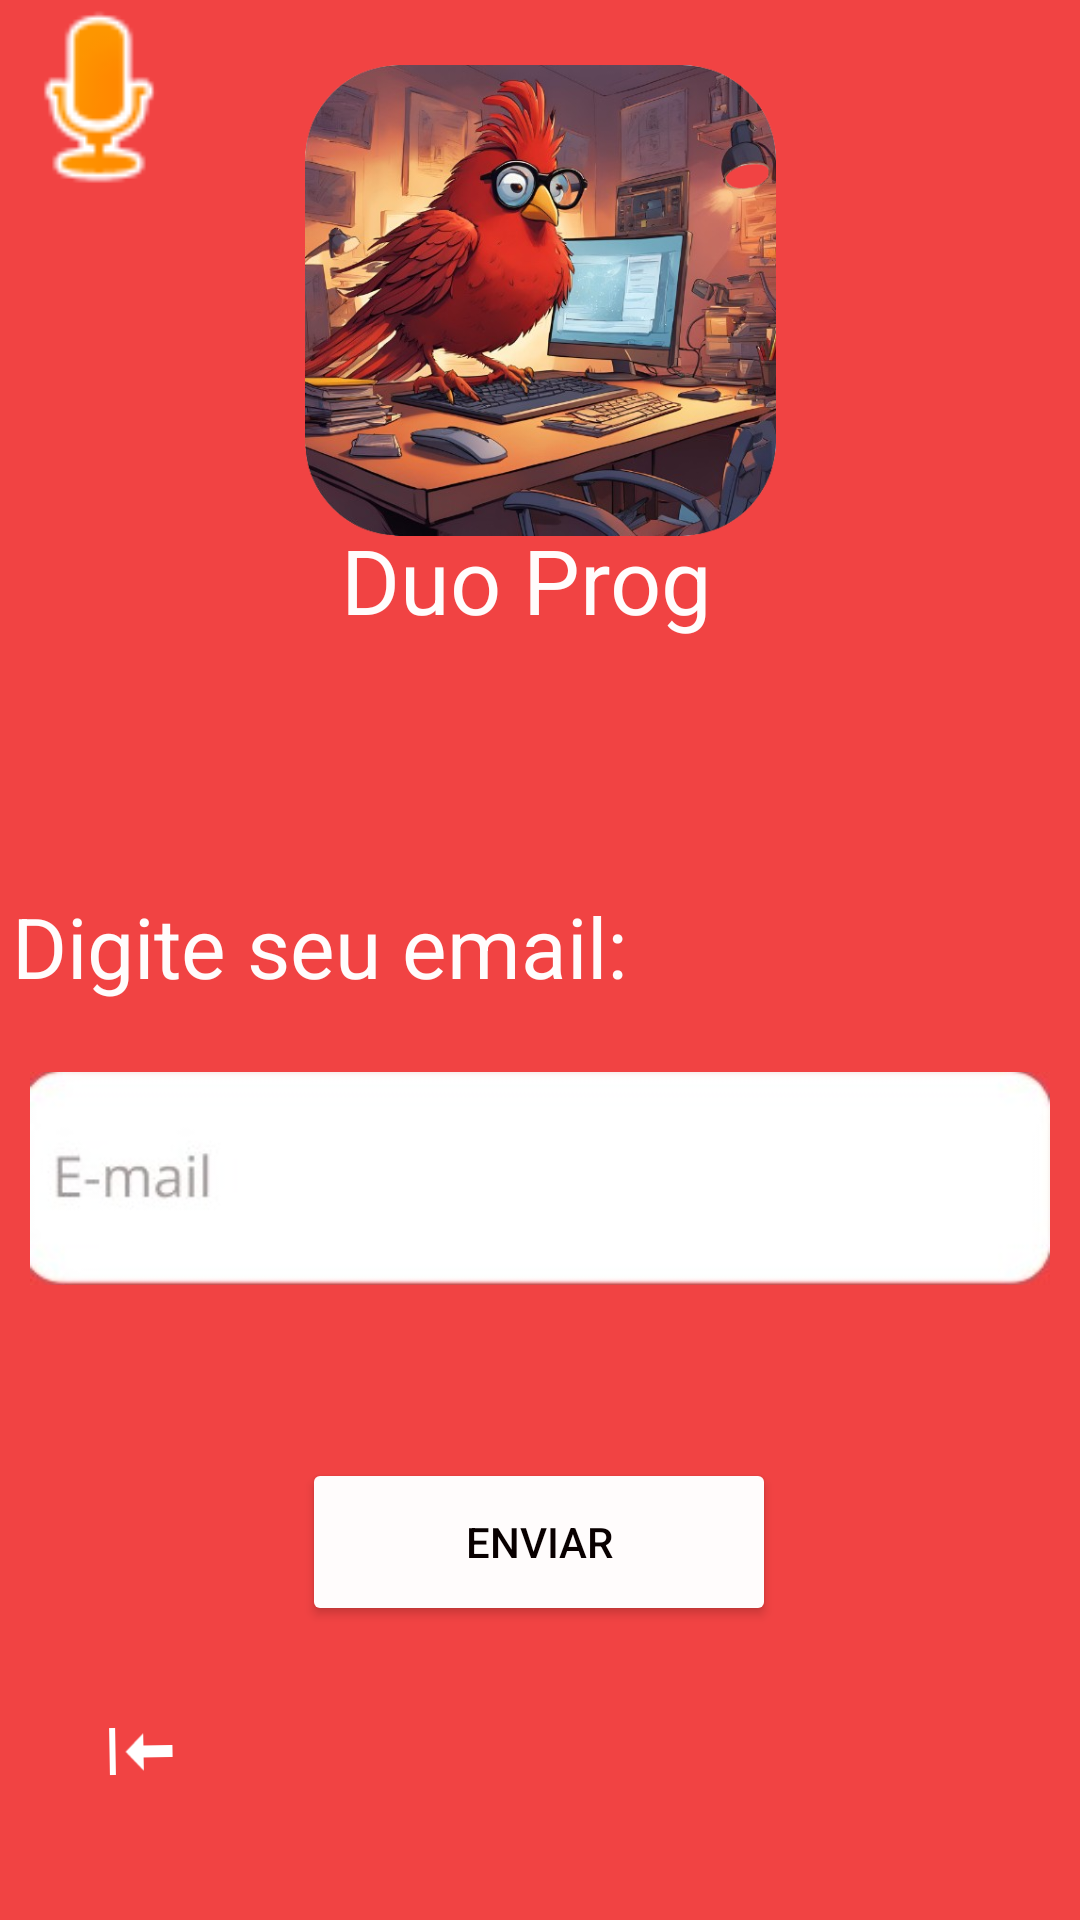

Screen size 1080w x 1920h. Icon name, then its center in pixels as (x=x, y=y):
presence audio away: (x=99, y=98)
